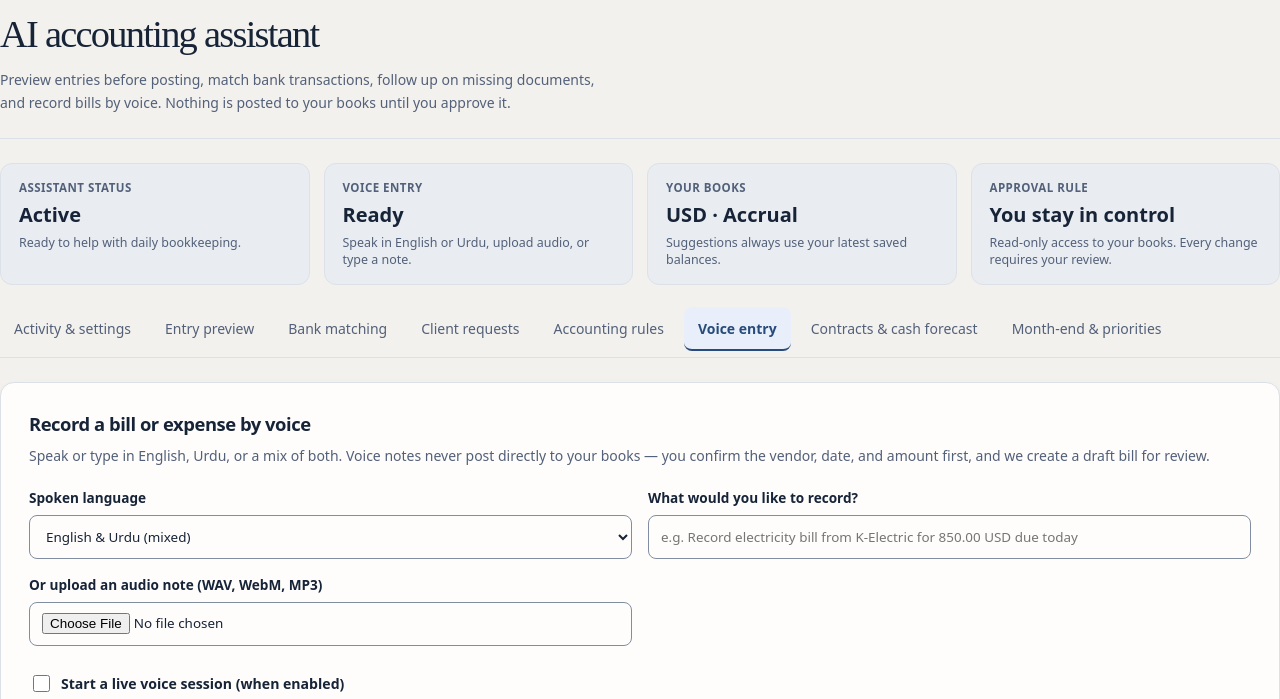
Test: AI accounting assistant UI › persists a voice recording reply by recording ID and only re-fetches on explicit Regenerate reply
Type "Record bill from K-Electric for 850.00 USD" into the field labelled "What would you like to record?" at x=950, y=536, box [648,514,1251,558]
(page scrolled)
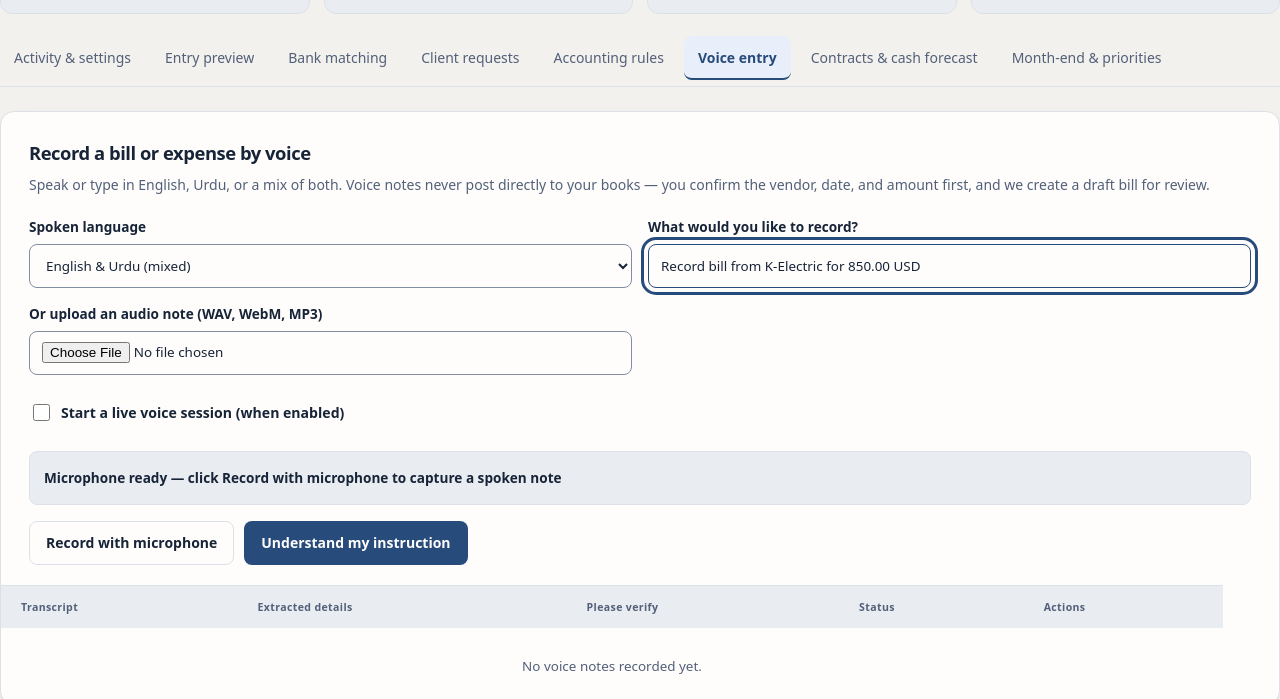
Click the button "Understand my instruction" at x=356, y=542, box [244,520,468,564]
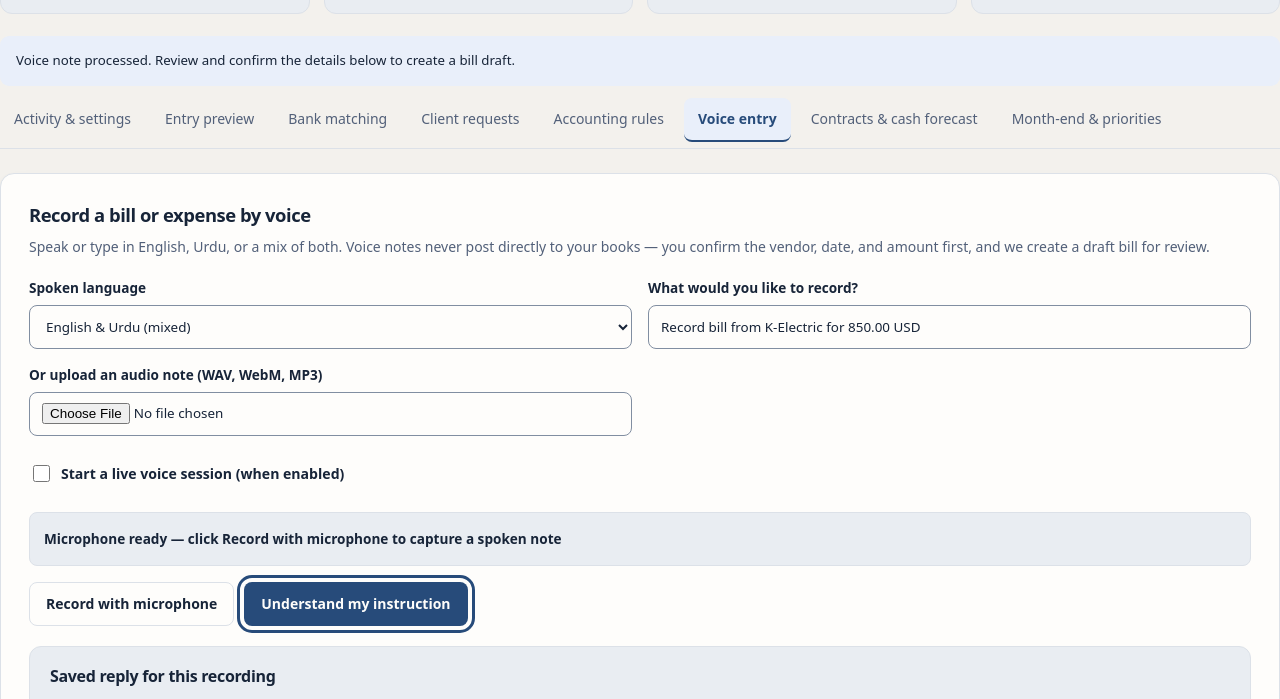
Click the button "Understand my instruction" at x=356, y=604, box [244,582,468,626]
(page scrolled)
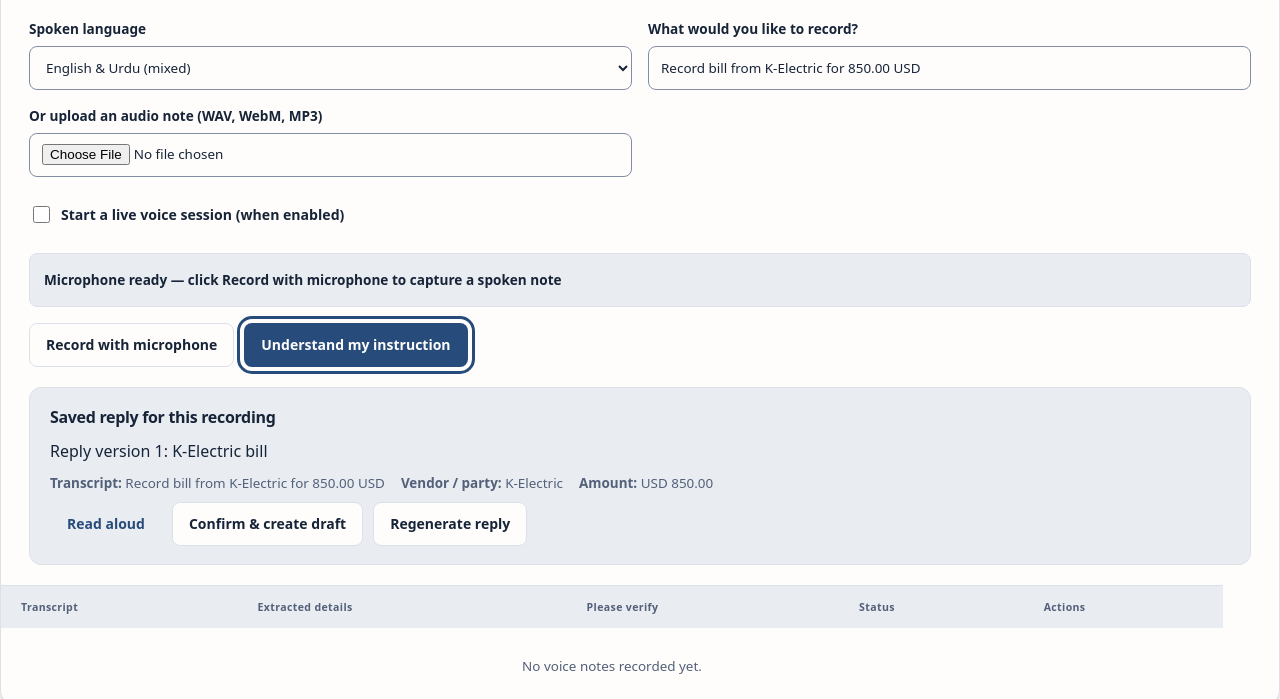
Now the text "Reply version 1: K-Electric bill" is shown, box [50,440,268,462]
Click the button "Regenerate reply" at x=450, y=524, box [373,502,527,546]
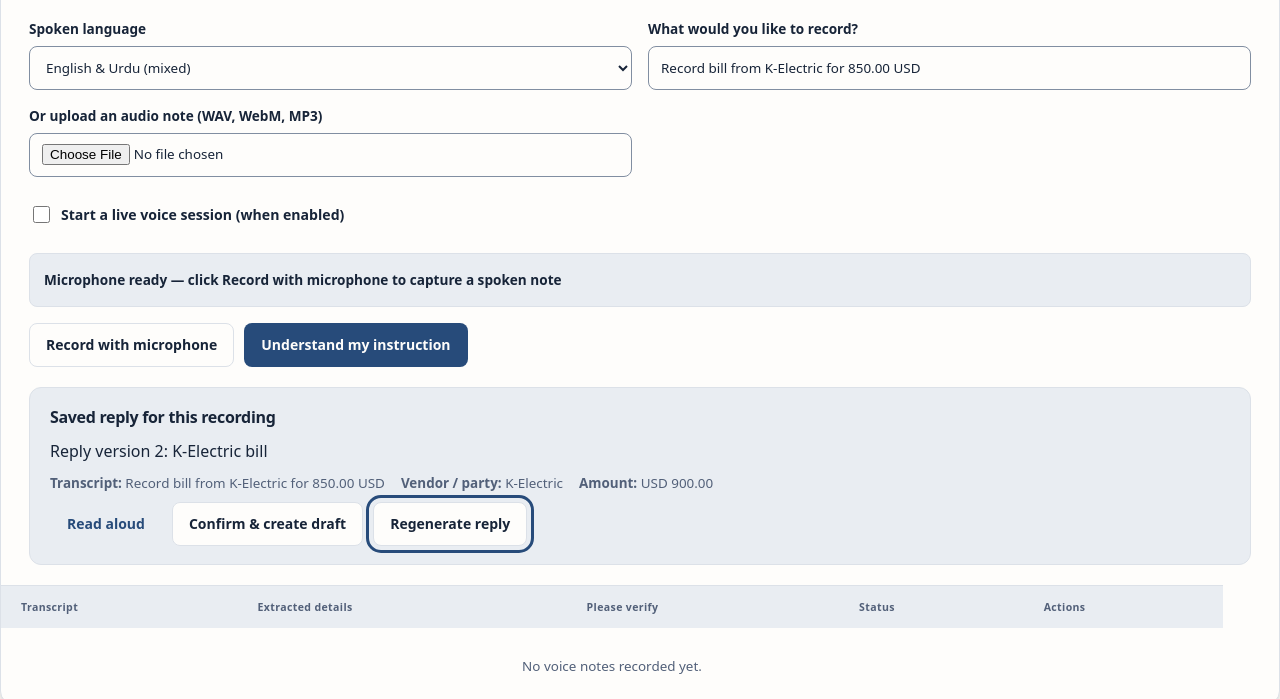
Now the text "Reply version 2: K-Electric bill" is shown, box [50,440,268,462]
